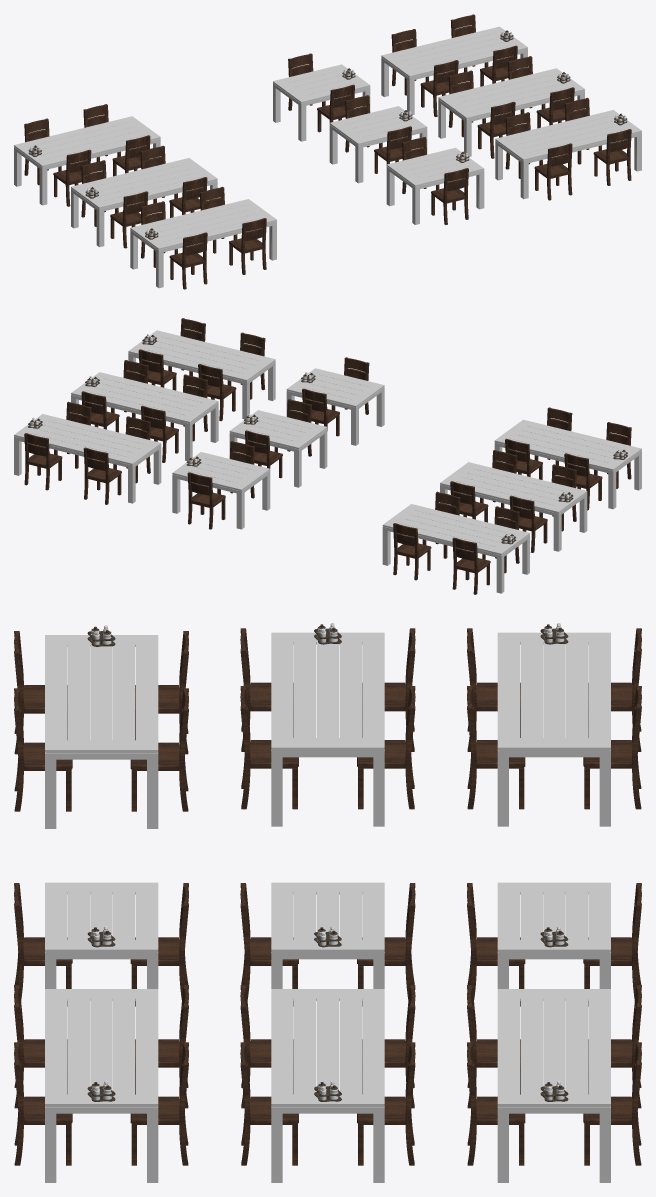
The model's file is Furnishing.fbx.
The picture shows the model from 3 angles, top to bottom: view 1: azimuth 30°, elevation 25°; view 2: azimuth 150°, elevation 25°; view 3: azimuth 270°, elevation 25°; orthographic projection. The views are drawn at different scales.
Parts seen in each view (by area): view 1: Cancun Dining Table.002|Cancun Dining Table|Dupli|, Cancun Dining Table.001|Cancun Dining Table|Dupli|, Cancun Dining Table.007|Cancun Dining Table|Dupli|, Cancun Dining Table.006|Cancun Dining Table|Dupli|, Cancun Dining Table.004|Cancun Dining Table|Dupli|, Cancun Dining Table.003|Cancun Dining Table|Dupli|, Cancun Dining Table.002|Dining Chair|Dupli|1, Cancun Dining Table.001|Dining Chair|Dupli|1, Cancun Dining Table Short|Cancun Dining Table Short.003|Dupl, Cancun Dining Table.006|Dining Chair|Dupli|1, Cancun Dining Table.003|Dining Chair|Dupli|1, Cancun Dining Table.004|Dining Chair|Dupli|1 (+6 smaller); view 2: Cancun Dining Table.007|Cancun Dining Table|Dupli|, Cancun Dining Table.004|Cancun Dining Table|Dupli|, Cancun Dining Table.006|Cancun Dining Table|Dupli|, Cancun Dining Table.001|Cancun Dining Table|Dupli|, Cancun Dining Table.003|Cancun Dining Table|Dupli|, Cancun Dining Table.002|Cancun Dining Table|Dupli|, Cancun Dining Table.004|Dining Chair|Dupli|1, Cancun Dining Table.007|Dining Chair|Dupli|1, Cancun Dining Table Short.002|Cancun Dining Table Short.003|, Cancun Dining Table.002|Dining Chair|Dupli|1, Cancun Dining Table.006|Dining Chair|Dupli|1, Cancun Dining Table.003|Dining Chair|Dupli|1 (+6 smaller); view 3: Cancun Dining Table.006|Cancun Dining Table|Dupli|, Cancun Dining Table.007|Cancun Dining Table|Dupli|, Cancun Dining Table.001|Cancun Dining Table|Dupli|, Cancun Dining Table.003|Cancun Dining Table|Dupli|, Cancun Dining Table.002|Cancun Dining Table|Dupli|, Cancun Dining Table.004|Cancun Dining Table|Dupli|, Cancun Dining Table Short.001|Cancun Dining Table Short.003|, Cancun Dining Table Short.002|Cancun Dining Table Short.003|, Cancun Dining Table Short|Cancun Dining Table Short.003|Dupl, Cancun Dining Table.006|Dining Chair|Dupli|1, Cancun Dining Table.003|Dining Chair|Dupli|1, Cancun Dining Table.007|Dining Chair|Dupli|1 (+6 smaller).
Boxes of the visible parts, x1,y1,x2,y2 form: Cancun Dining Table.002|Cancun Dining Table|Dupli|: (495,110,641,199); Cancun Dining Table.001|Cancun Dining Table|Dupli|: (130,199,276,288); Cancun Dining Table.007|Cancun Dining Table|Dupli|: (14,116,160,205); Cancun Dining Table.006|Cancun Dining Table|Dupli|: (71,158,217,247); Cancun Dining Table.004|Cancun Dining Table|Dupli|: (381,26,527,115); Cancun Dining Table.003|Cancun Dining Table|Dupli|: (438,68,584,156); Cancun Dining Table.002|Dining Chair|Dupli|1: (505,97,631,200); Cancun Dining Table.001|Dining Chair|Dupli|1: (140,186,266,289); Cancun Dining Table Short|Cancun Dining Table Short.003|Dupl: (386,147,484,224); Cancun Dining Table.006|Dining Chair|Dupli|1: (81,145,207,248); Cancun Dining Table.003|Dining Chair|Dupli|1: (448,56,574,158); Cancun Dining Table.004|Dining Chair|Dupli|1: (391,14,517,116); Cancun Dining Table.007|Cancun Dining Table|Dupli|: (382,504,529,593); Cancun Dining Table.004|Cancun Dining Table|Dupli|: (14,414,161,503); Cancun Dining Table.006|Cancun Dining Table|Dupli|: (440,462,587,551); Cancun Dining Table.001|Cancun Dining Table|Dupli|: (494,419,641,509); Cancun Dining Table.003|Cancun Dining Table|Dupli|: (71,372,218,461); Cancun Dining Table.002|Cancun Dining Table|Dupli|: (128,330,275,419); Cancun Dining Table.004|Dining Chair|Dupli|1: (24,401,150,504); Cancun Dining Table.007|Dining Chair|Dupli|1: (393,491,519,594); Cancun Dining Table Short.002|Cancun Dining Table Short.003|: (172,452,270,529); Cancun Dining Table.002|Dining Chair|Dupli|1: (138,318,265,421); Cancun Dining Table.006|Dining Chair|Dupli|1: (450,450,576,552); Cancun Dining Table.003|Dining Chair|Dupli|1: (81,360,208,462); Cancun Dining Table.006|Cancun Dining Table|Dupli|: (271,632,384,826); Cancun Dining Table.007|Cancun Dining Table|Dupli|: (497,632,610,826); Cancun Dining Table.001|Cancun Dining Table|Dupli|: (45,635,158,828); Cancun Dining Table.003|Cancun Dining Table|Dupli|: (271,989,384,1182); Cancun Dining Table.002|Cancun Dining Table|Dupli|: (45,989,158,1182); Cancun Dining Table.004|Cancun Dining Table|Dupli|: (497,989,610,1182); Cancun Dining Table Short.001|Cancun Dining Table Short.003|: (271,882,384,988); Cancun Dining Table Short.002|Cancun Dining Table Short.003|: (497,882,610,988); Cancun Dining Table Short|Cancun Dining Table Short.003|Dupl: (45,882,158,988); Cancun Dining Table.006|Dining Chair|Dupli|1: (240,628,415,809); Cancun Dining Table.003|Dining Chair|Dupli|1: (240,985,415,1165); Cancun Dining Table.007|Dining Chair|Dupli|1: (467,628,641,809).
Bounding box in the file's own units: 5.55 × 1 × 9.85.
